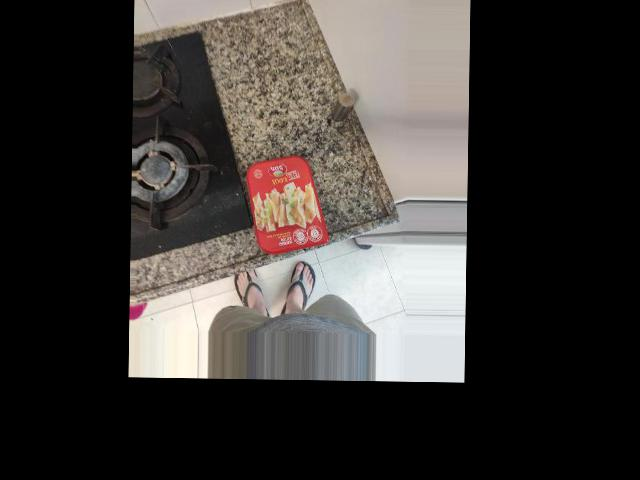cheese: (241, 153, 336, 261)
